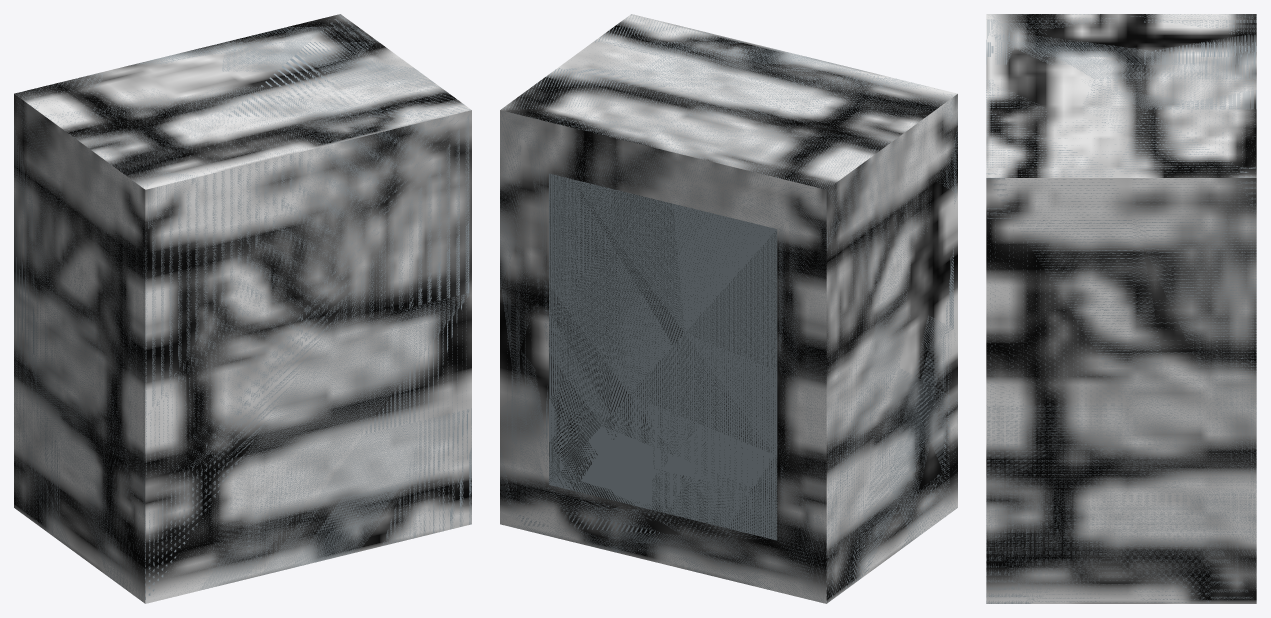
File: caja_juguete_2.fbx
The picture shows the model from 3 angles, left to right: view 1: azimuth 30°, elevation 25°; view 2: azimuth 150°, elevation 25°; view 3: azimuth 270°, elevation 25°; orthographic projection. The views are drawn at different scales.
Visible parts, largest first — view 1: Model; view 2: Model; view 3: Model.
Boxes of the visible parts, x1,y1,x2,y2 form: Model: [14, 14, 471, 603]; Model: [500, 14, 957, 603]; Model: [986, 14, 1256, 603].
Size of the model in its own units: 0.33 by 0.4 by 0.23.
